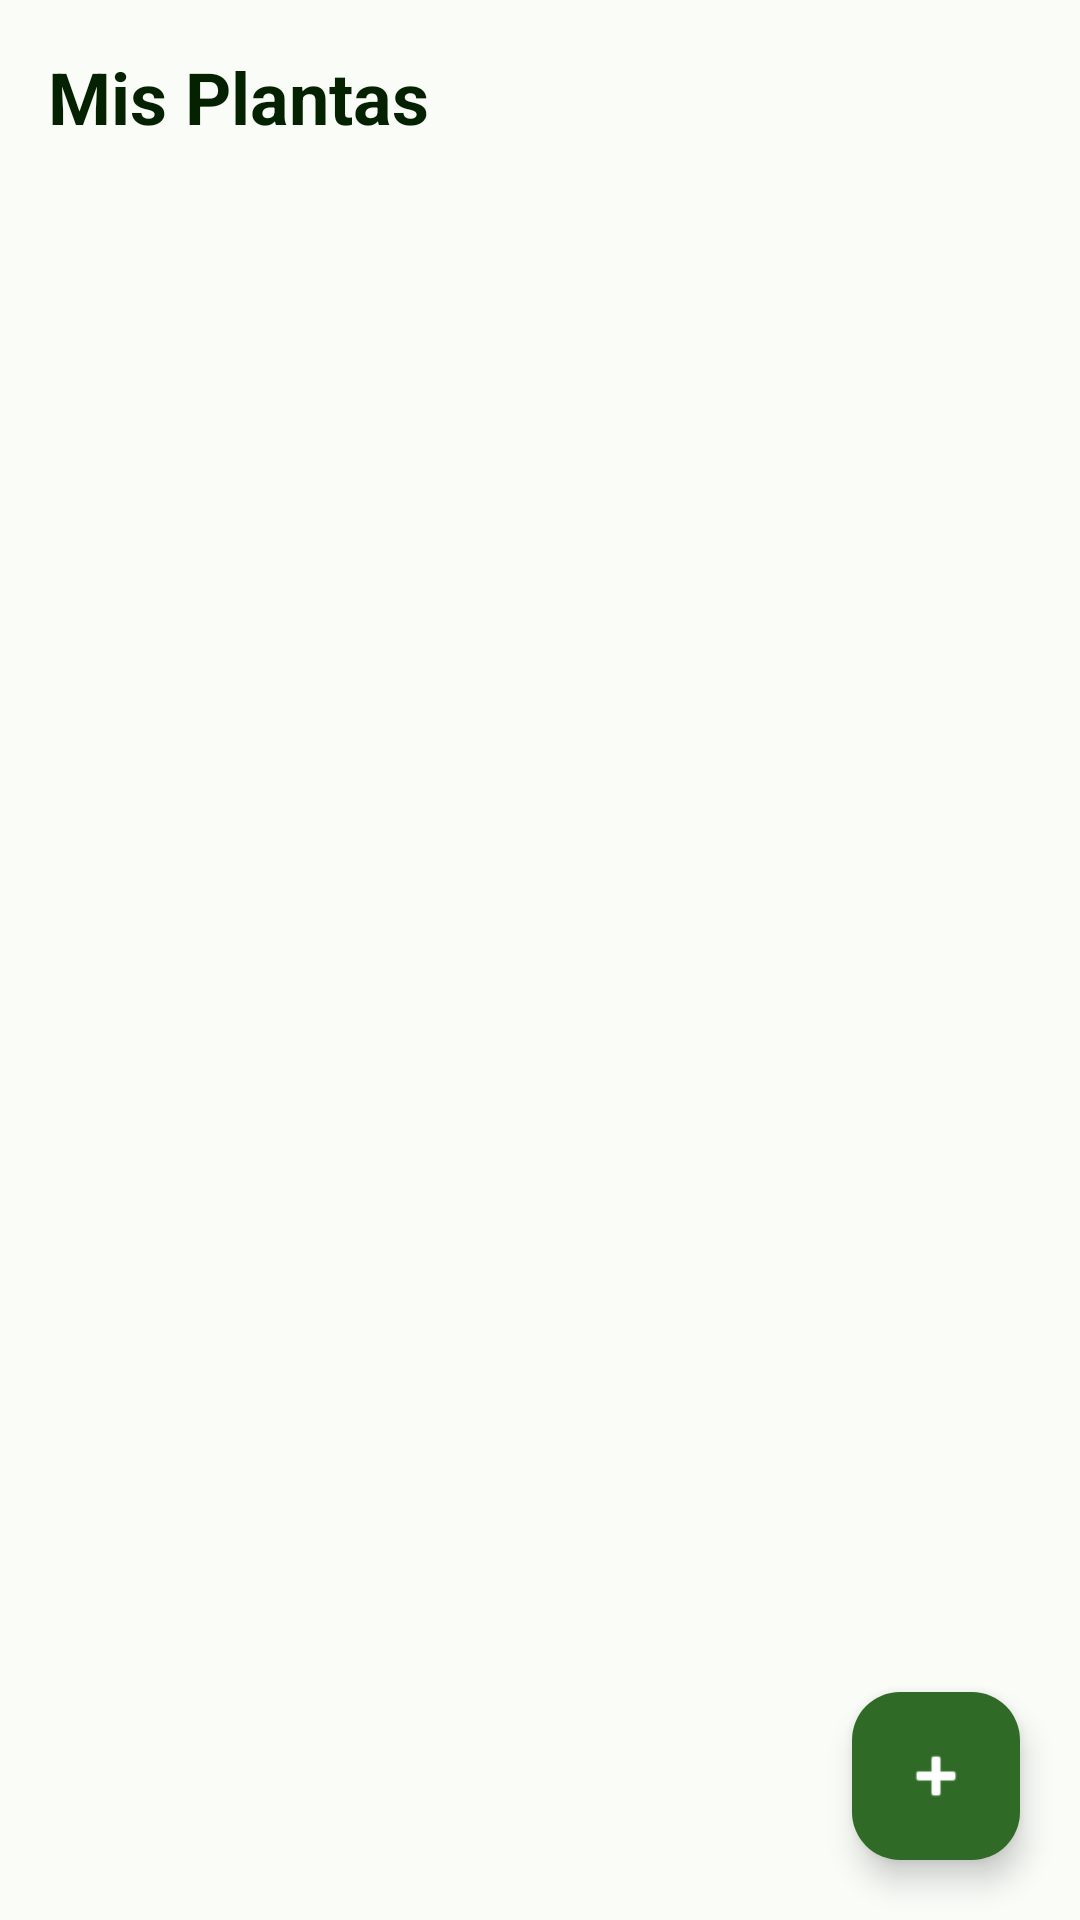

Where to tap for icons on this 1080px×1920px app screen, as point (x, y):
Agregar nota: point (936, 1776)
